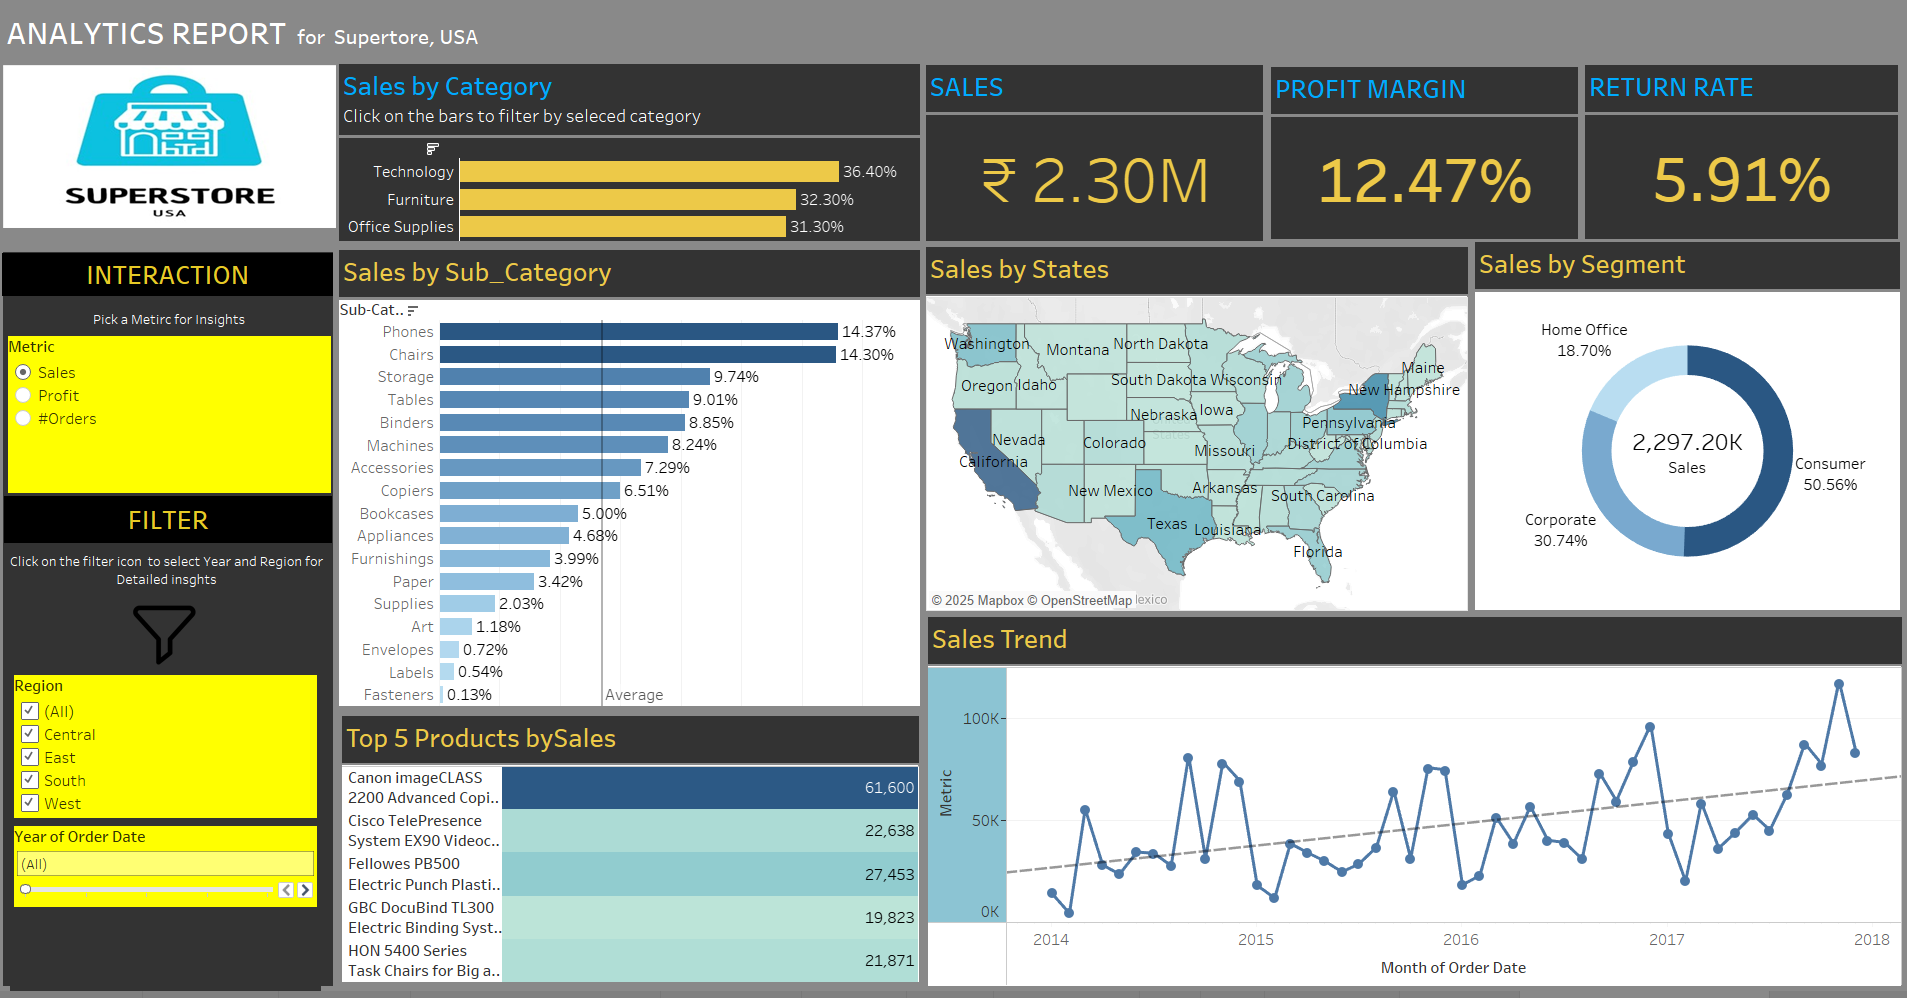

What the dashboard file says about the page in this screenshot:
{"tool":"tableau","page":{"name":"Dashboard Superstore Data(7)","canvas":[1000,1000],"units":"permille","ordinal":1},"visuals":[{"type":"text","box":[4.8,10,992.8,48.7]},{"type":"worksheet","title":"Assignment(7)Sales by Category ","mark":"Automatic","rows":["Category"],"cols":["Calculation_2323575951351320587"],"box":[179.8,66.2,302.4,182.3]},{"type":"image","param":"Image/Picture1.jpg","box":[4.8,67.4,173.2,211]},{"type":"worksheet","title":"SALES","mark":"Automatic","box":[485.2,67.4,175.6,177.3]},{"type":"worksheet","title":"RETURN RATE","mark":"Automatic","box":[828.6,67.4,163,174.8]},{"type":"worksheet","title":"PROFIT MARGIN","mark":"Automatic","box":[665.1,69.9,159.9,173.5]},{"type":"worksheet","title":" by Segment","mark":"Pie","rows":["Calculation_2323575951357579279","Calculation_2323575951357579279"],"box":[771.3,245.9,221.5,370.8]},{"type":"worksheet","title":" by States","mark":"Automatic","box":[485.2,250.9,282.4,367]},{"type":"worksheet","title":" by Sub_Category","mark":"Automatic","rows":["Sub-Category"],"cols":["Calculation_2323575951351320587"],"box":[179.8,253.4,302.4,459.4]},{"type":"text","box":[4.2,257.2,172.6,43.7]},{"type":"text","box":[6,304.6,169.6,38.7]},{"type":"parameter","param":"[Parameters].[Parameter 2]","box":[7.2,340.8,168.4,158.6]},{"type":"text","box":[5.4,501.9,170.8,47.4]},{"type":"text","box":[4.8,546.8,170.2,58.7]},{"type":"dashboard-object","box":[66.4,601.8,45.3,74.9]},{"type":"worksheet","title":" Trend","mark":"Automatic","rows":["Calculation_2323575951351320587","Calculation_2323575951351320587"],"cols":["Order Date"],"box":[486.4,623,507.5,372]},{"type":"filter","title":"Assignment(7)Sales by Category ","param":"[federated.1wt2rs10pttj4z19uh8rk15vywmw].[none:Region:nk]","box":[8.4,677.9,161.7,188.5]},{"type":"worksheet","title":"Top 5 Products by","mark":"Square","rows":["Product Name"],"box":[181.1,722.9,300.5,268.4]},{"type":"filter","title":"Assignment(7)Sales by Category ","param":"[federated.1wt2rs10pttj4z19uh8rk15vywmw].[yr:Order Date:ok]","box":[8.4,866.4,161.7,111.1]}]}

Visuals, with their boxes on the dashboard's canvas, which has no fixed pixel size, in thousandths of its width and height (x1, y1, x2, y2). These are canvas units, not pixel positions in the 1907x998 screenshot, which may show the page scaled, cropped or inside an application window:
text: l=5, t=10, r=998, b=59
"Assignment(7)Sales by Category " worksheet: l=180, t=66, r=482, b=248
image: l=5, t=67, r=178, b=278
"SALES" worksheet: l=485, t=67, r=661, b=245
"RETURN RATE" worksheet: l=829, t=67, r=992, b=242
"PROFIT MARGIN" worksheet: l=665, t=70, r=825, b=243
" by Segment" worksheet (Pie marks): l=771, t=246, r=993, b=617
" by States" worksheet: l=485, t=251, r=768, b=618
" by Sub_Category" worksheet: l=180, t=253, r=482, b=713
text: l=4, t=257, r=177, b=301
text: l=6, t=305, r=176, b=343
parameter: l=7, t=341, r=176, b=499
text: l=5, t=502, r=176, b=549
text: l=5, t=547, r=175, b=606
dashboard-object: l=66, t=602, r=112, b=677
" Trend" worksheet: l=486, t=623, r=994, b=995
"Assignment(7)Sales by Category " filter: l=8, t=678, r=170, b=866
"Top 5 Products by" worksheet (Square marks): l=181, t=723, r=482, b=991
"Assignment(7)Sales by Category " filter: l=8, t=866, r=170, b=978
